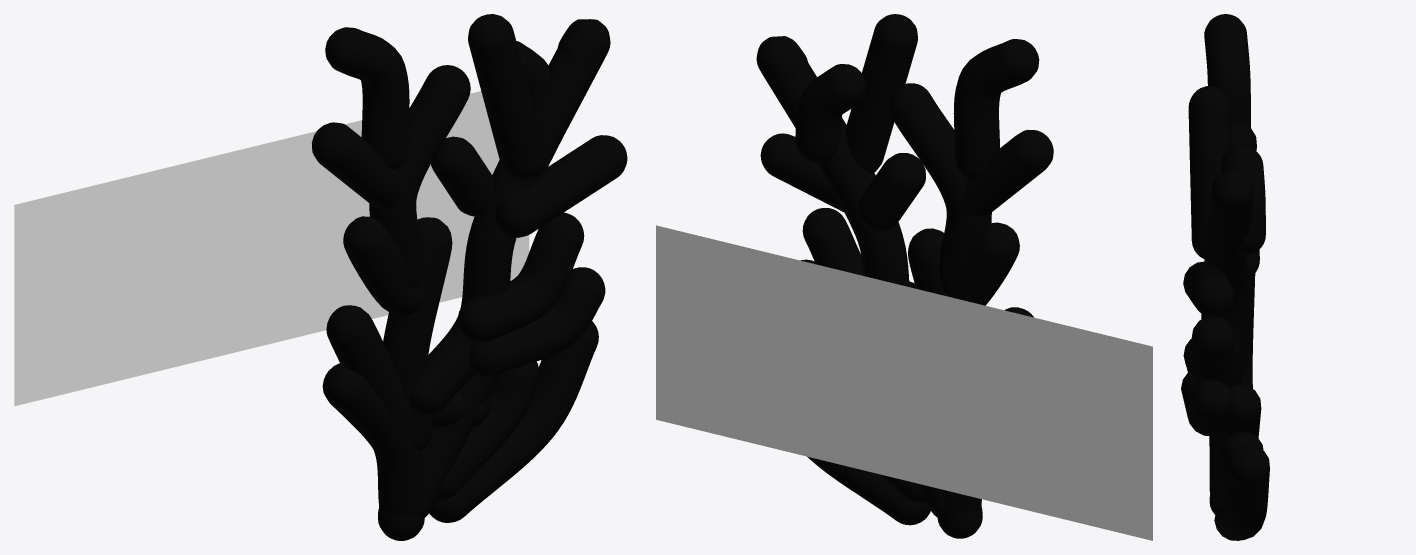
Rendered from G11_Inam plant1111.fbx.
3 views of the same model, side by side, from view 1: azimuth 30°, elevation 25°; view 2: azimuth 150°, elevation 25°; view 3: azimuth 270°, elevation 25° (orthographic). The views are drawn at different scales.
Parts seen in each view (by area): view 1: node_id28 (×15), root; view 2: root, node_id28 (×12); view 3: node_id28 (×12).
Boxes of the visible parts, x1,y1,x2,y2 form: node_id28 (×15): [312, 14, 627, 540]; root: [14, 91, 529, 406]; root: [656, 225, 1152, 540]; node_id28 (×12): [756, 14, 1053, 538]; node_id28 (×12): [1181, 14, 1269, 540].
Bounding box in the file's own units: 0.757 × 0.7378 × 0.3079.
Materials: 16 (1 with a texture image).
